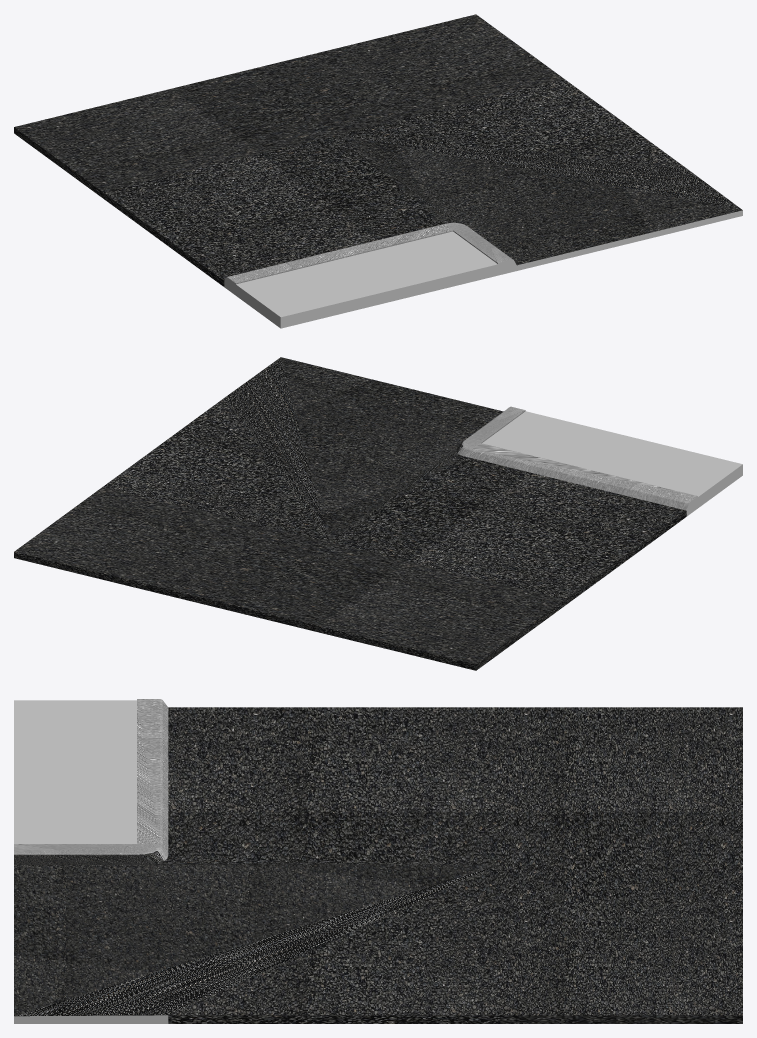
The model's file is tile13.fbx.
3 renders of one model, top to bottom at view 1: azimuth 30°, elevation 25°; view 2: azimuth 150°, elevation 25°; view 3: azimuth 270°, elevation 25°, orthographic. The views are drawn at different scales.
Parts seen in each view (by area): view 1: Cube; view 2: Cube; view 3: Cube.
Part boxes in pixels (x1,y1,x2,y2): Cube: (14, 14, 742, 328); Cube: (14, 357, 742, 670); Cube: (14, 699, 742, 1023).
Size of the model in its own units: 600 by 15.32 by 600.
